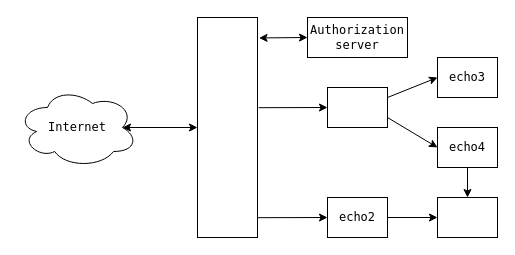
This 515x255 diagram has some shape labels left out. The shapes that lost their labels are listed below. From the top down, each one's centre as x and y in pixels, then its label:
pixel 227 127: Gateway
pixel 357 107: echo1
pixel 467 217: echo5
